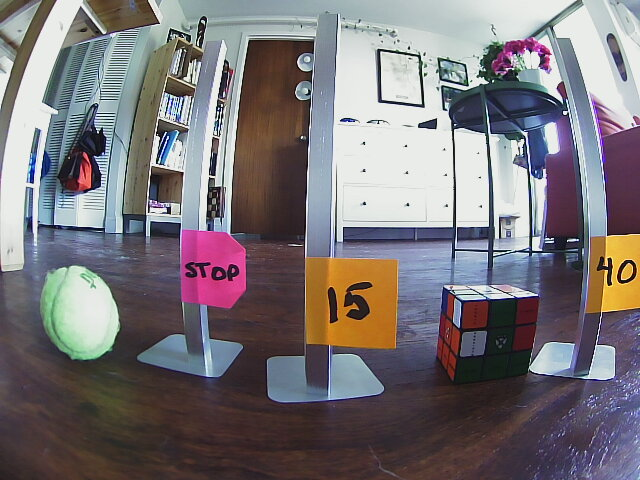15: (307, 257, 394, 345)
40: (591, 238, 640, 307)
ball: (41, 265, 120, 357)
cube: (438, 282, 538, 382)
stop: (180, 231, 242, 306)
